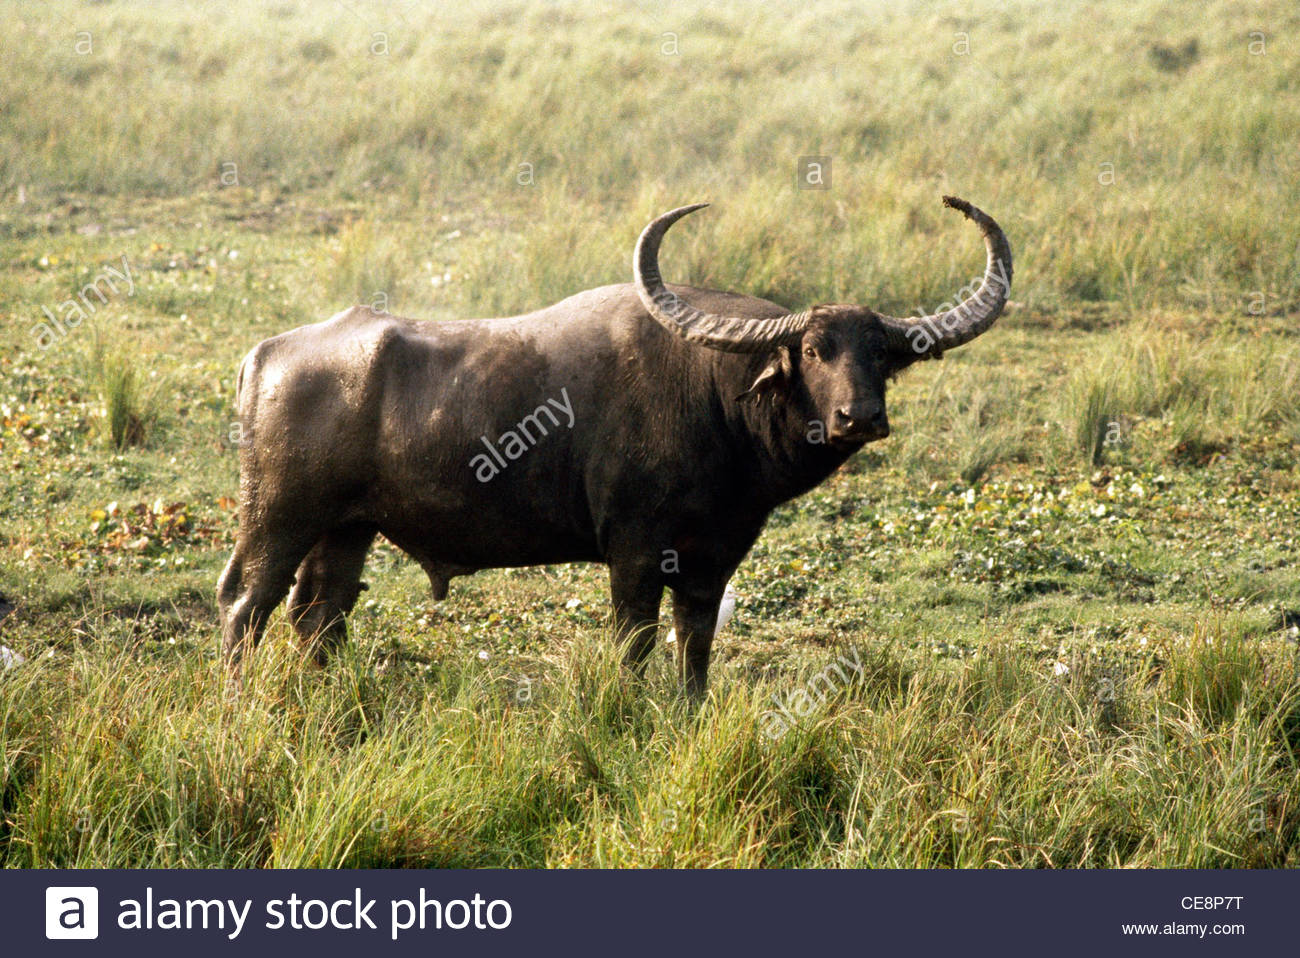buffalo: (214, 188, 1023, 682)
